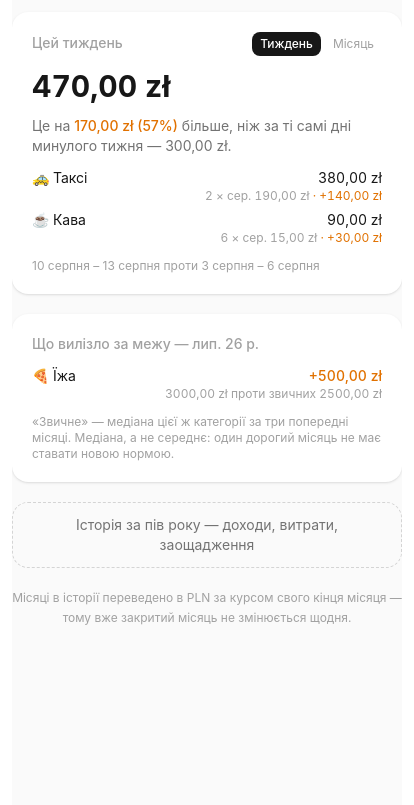
Test: Stats › keeps each currency separate when the jars are not all in one
Click the button "Історія за пів року — доходи, витрати, заощадження": (207, 535) [12,502,402,568]
(page scrolled)
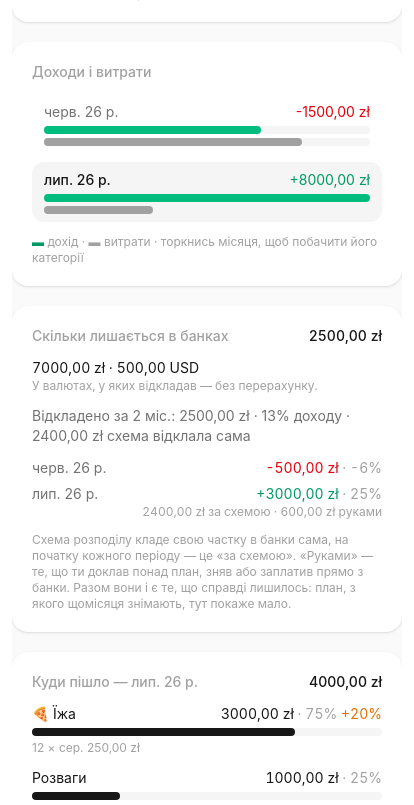
Now the text "7000,00 zł · 500,00" is shown, box [32,359,199,376]
Now the text "У валютах, у яких відкладав — без перерахунку." is shown, box [32,378,318,393]
